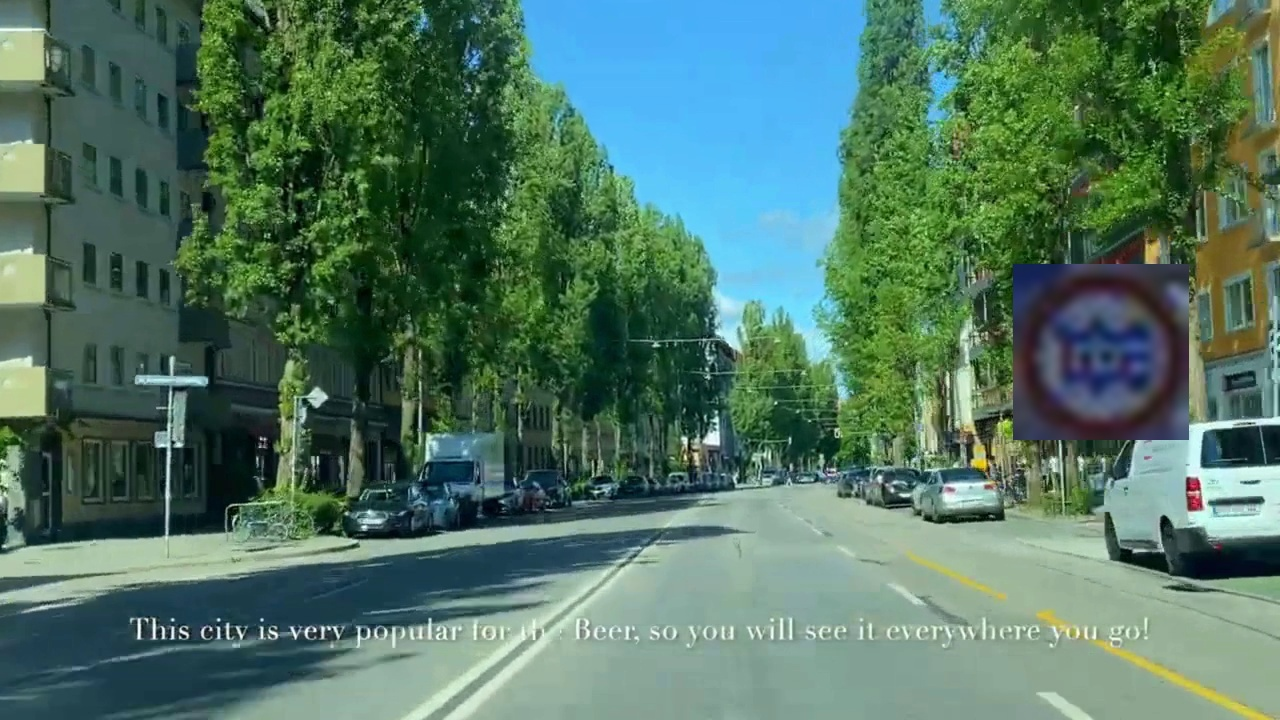Speed 100: (1013, 264, 1189, 440)
